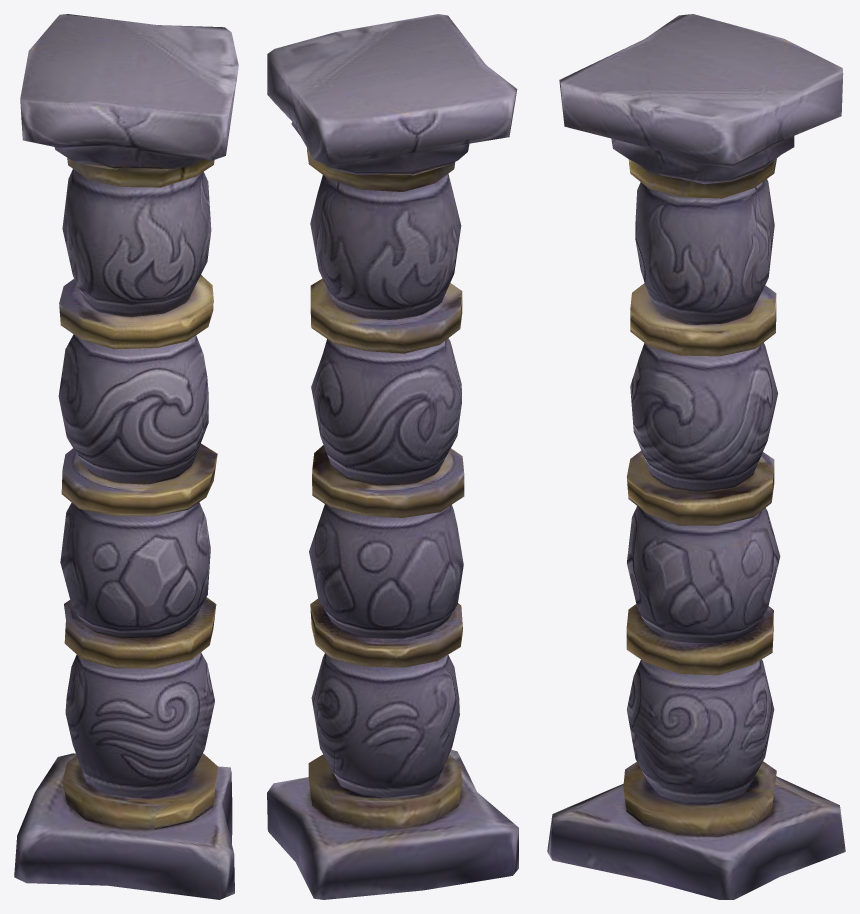
File: cp_coluna_elementos.glb
3 views of the same model, side by side, from view 1: azimuth 30°, elevation 25°; view 2: azimuth 150°, elevation 25°; view 3: azimuth 270°, elevation 25° (orthographic).
Visible parts, largest first — view 1: Mesh_0.011; view 2: Mesh_0.011; view 3: Mesh_0.011.
Part boxes in pixels (left/top/right/bottom): Mesh_0.011: left=14, top=14, right=238, bottom=899; Mesh_0.011: left=267, top=14, right=518, bottom=899; Mesh_0.011: left=547, top=14, right=845, bottom=899.
Bounding box in the file's own units: 0.1484 × 0.4854 × 0.1685.
1 material, 1 textured.
